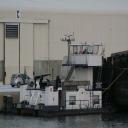tugboat: (11, 43, 122, 119)
